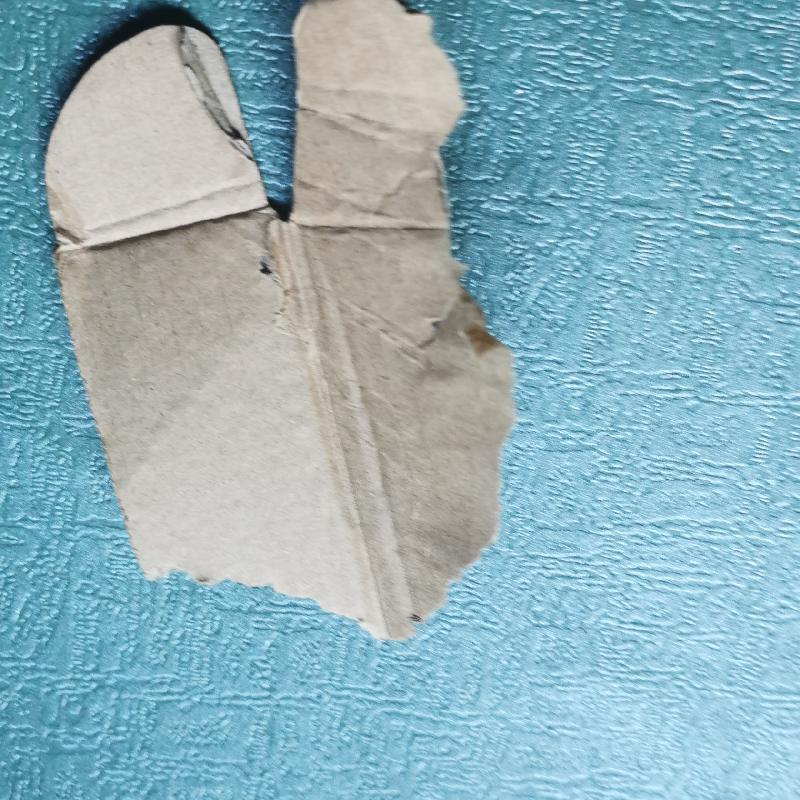boxes: (43, 3, 519, 643)
